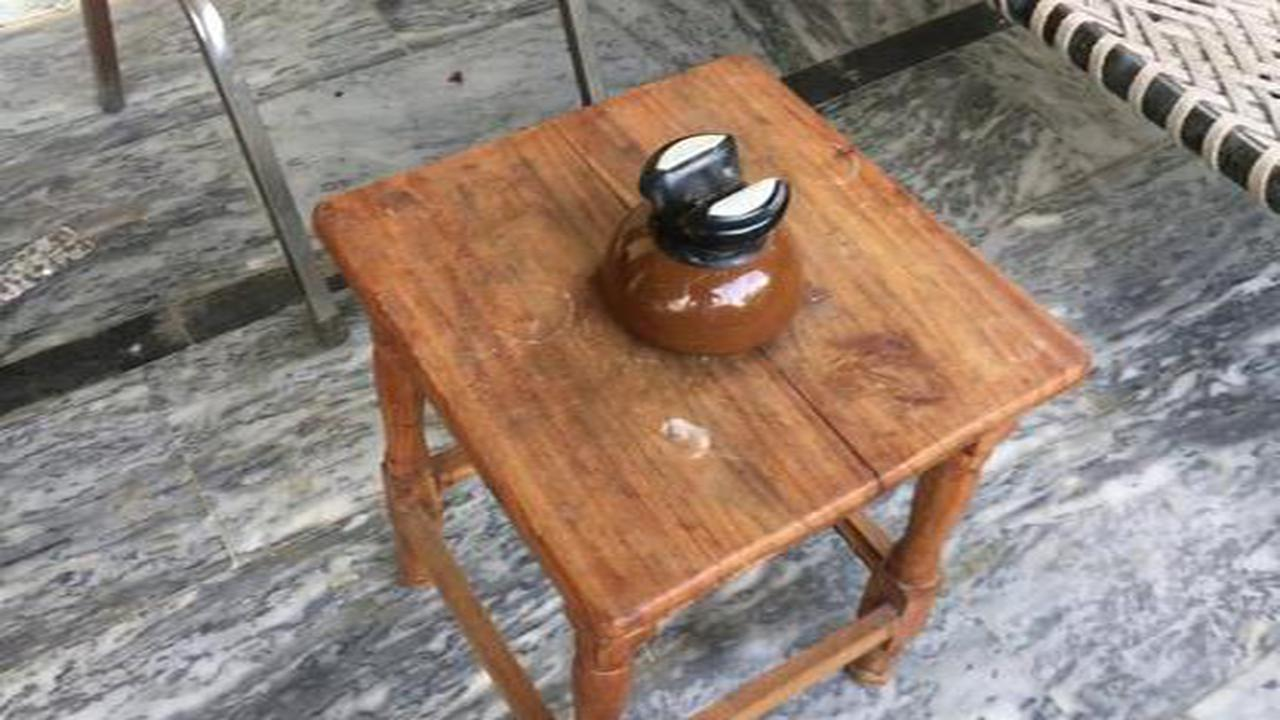insulator_pin: (576, 120, 828, 369)
